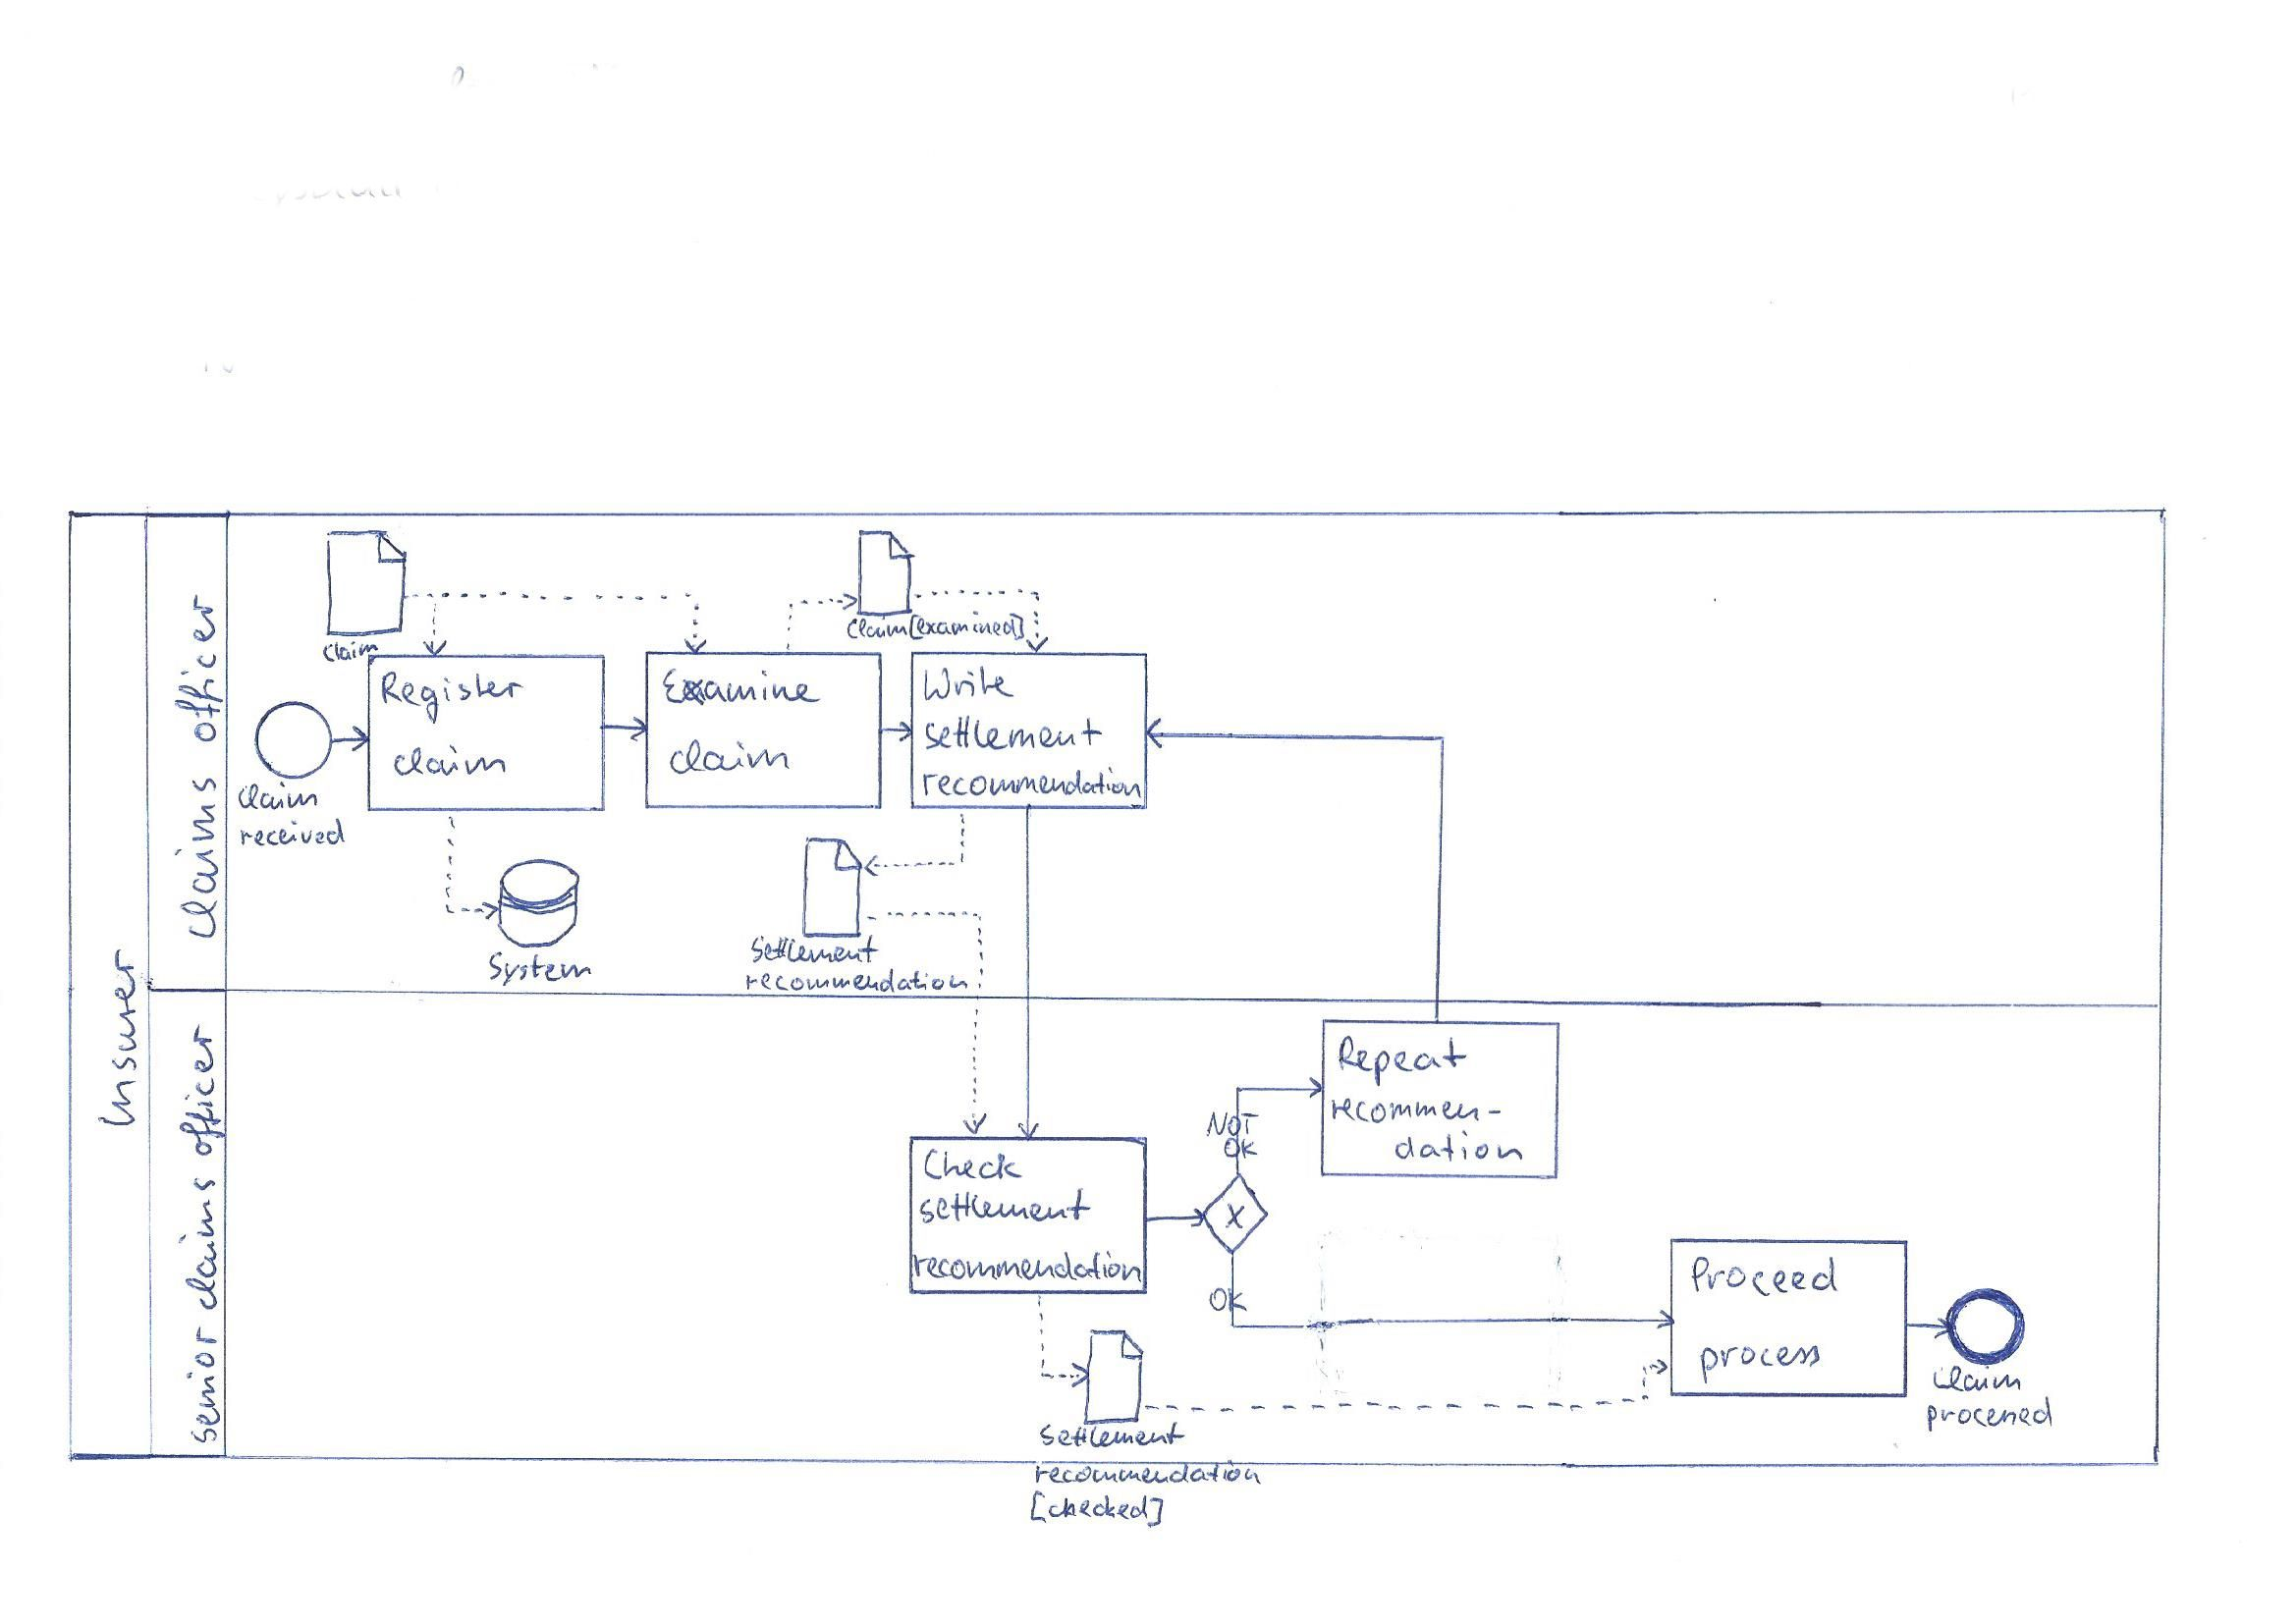Check: (916, 1142, 1032, 1188)
Claim: (1925, 1359, 2029, 1397), (234, 779, 325, 817), (840, 610, 912, 647), (316, 636, 385, 668)
Examine: (658, 663, 826, 710)
NOT: (1197, 1107, 1266, 1142)
OK: (1202, 1281, 1255, 1318), (1217, 1134, 1262, 1165)
Proceed: (1682, 1248, 1846, 1304)
Register: (374, 666, 533, 731)
Repeat: (1331, 1028, 1473, 1093)
Settlement: (744, 928, 888, 972)
System: (482, 944, 598, 993)
Write: (916, 657, 1020, 708)
[checked]: (1025, 1483, 1171, 1534)
[examined]: (904, 606, 1028, 645)
claim: (663, 733, 796, 780), (385, 742, 513, 782)
claims: (165, 768, 223, 947), (167, 1167, 223, 1318)
dation: (1387, 1125, 1533, 1171)
insurer: (88, 940, 148, 1135)
officer: (167, 584, 230, 750), (171, 1016, 230, 1165)
process: (1691, 1338, 1828, 1392)
processed: (1920, 1388, 2060, 1441)
received: (234, 814, 350, 856)
recommen-: (1324, 1091, 1510, 1132)
recommendation: (907, 1244, 1150, 1290), (916, 763, 1150, 805), (1027, 1454, 1271, 1492), (740, 961, 977, 998)
senior: (176, 1318, 230, 1454)
settlement: (916, 708, 1109, 758), (914, 1185, 1097, 1230), (1032, 1417, 1192, 1455)
